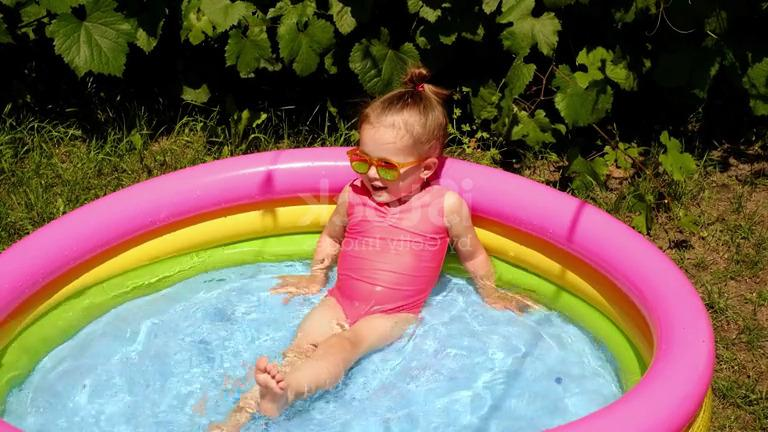Swimming: (115, 60, 591, 418)
